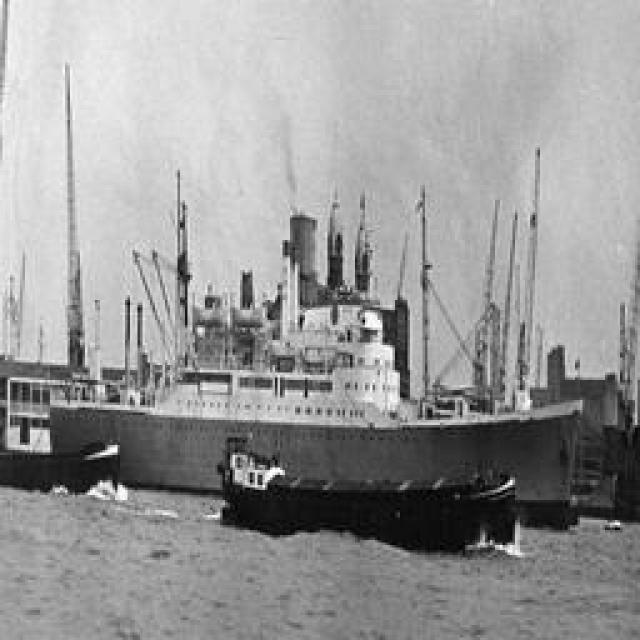Ship: (43, 160, 601, 523)
